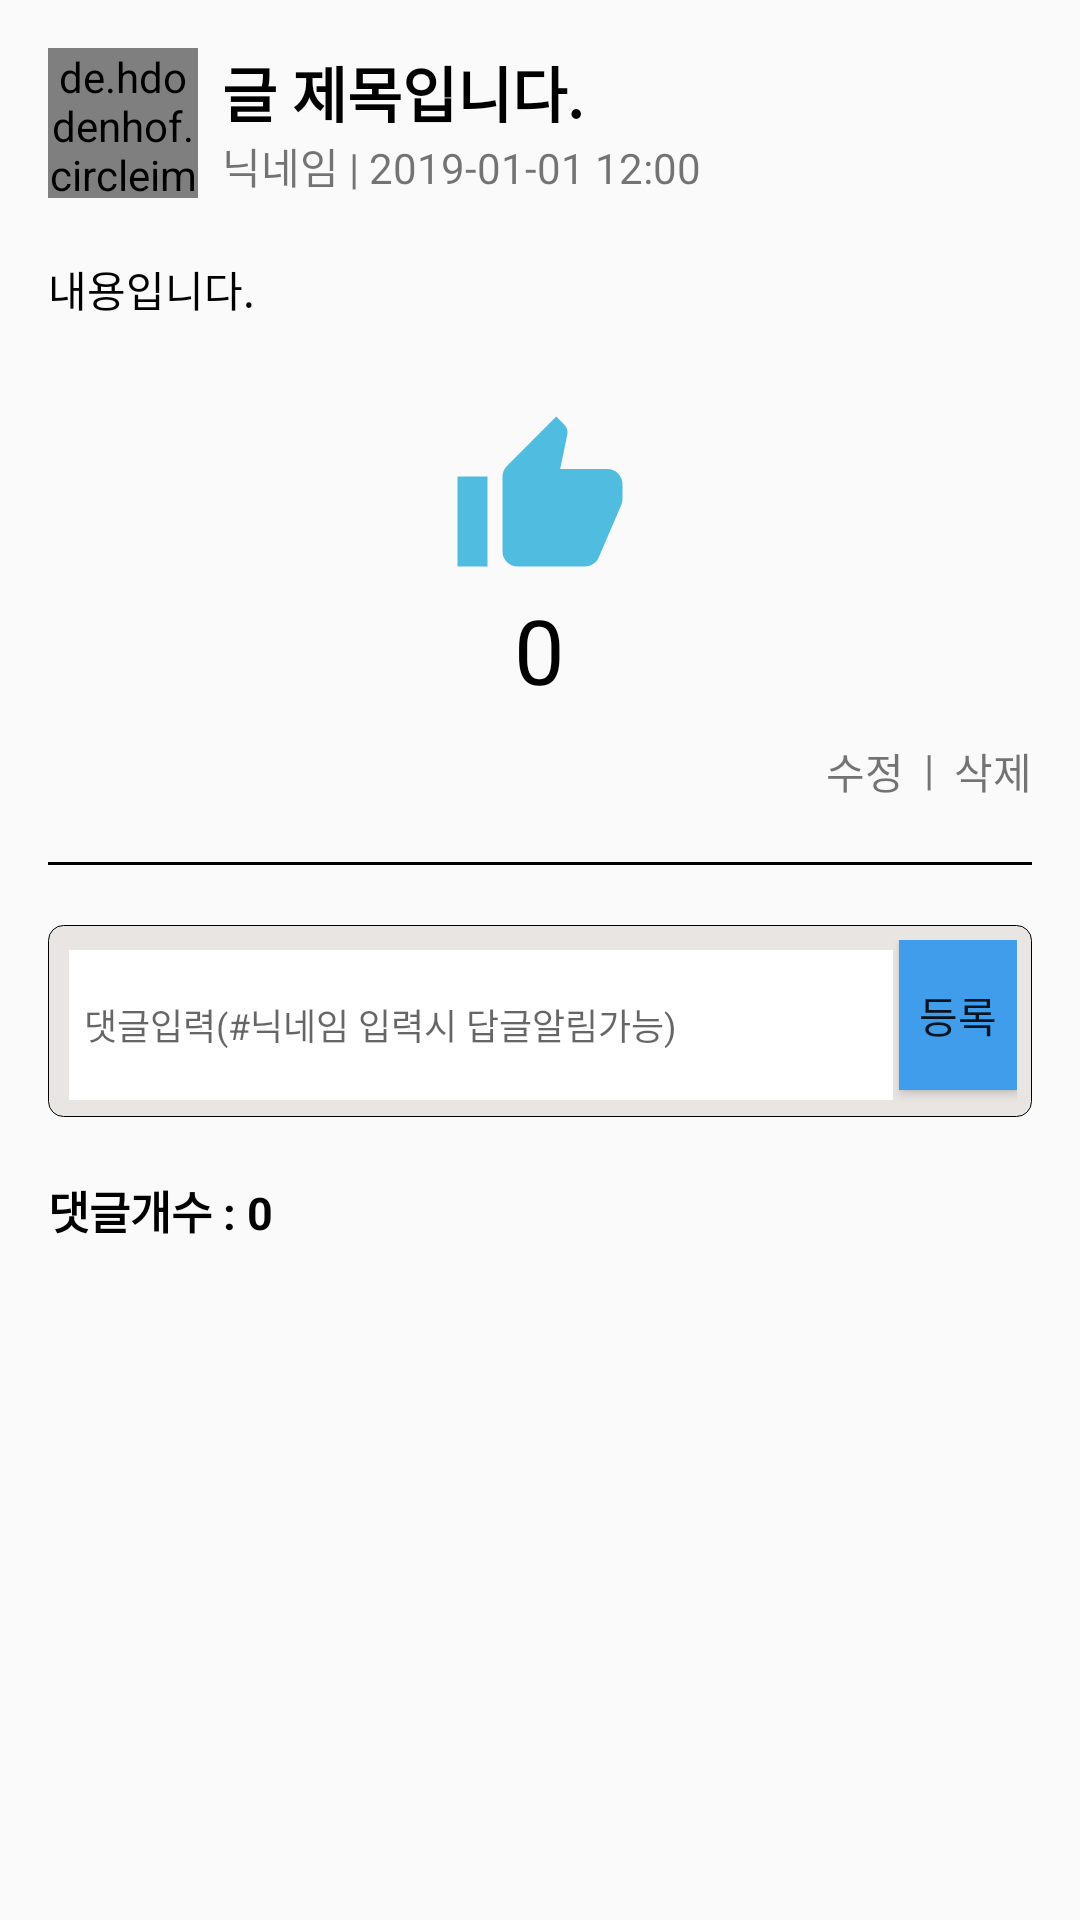

Named icons in this screenshot (1080x1920) and their centers, (x,y):
recommend board: (540,491)
